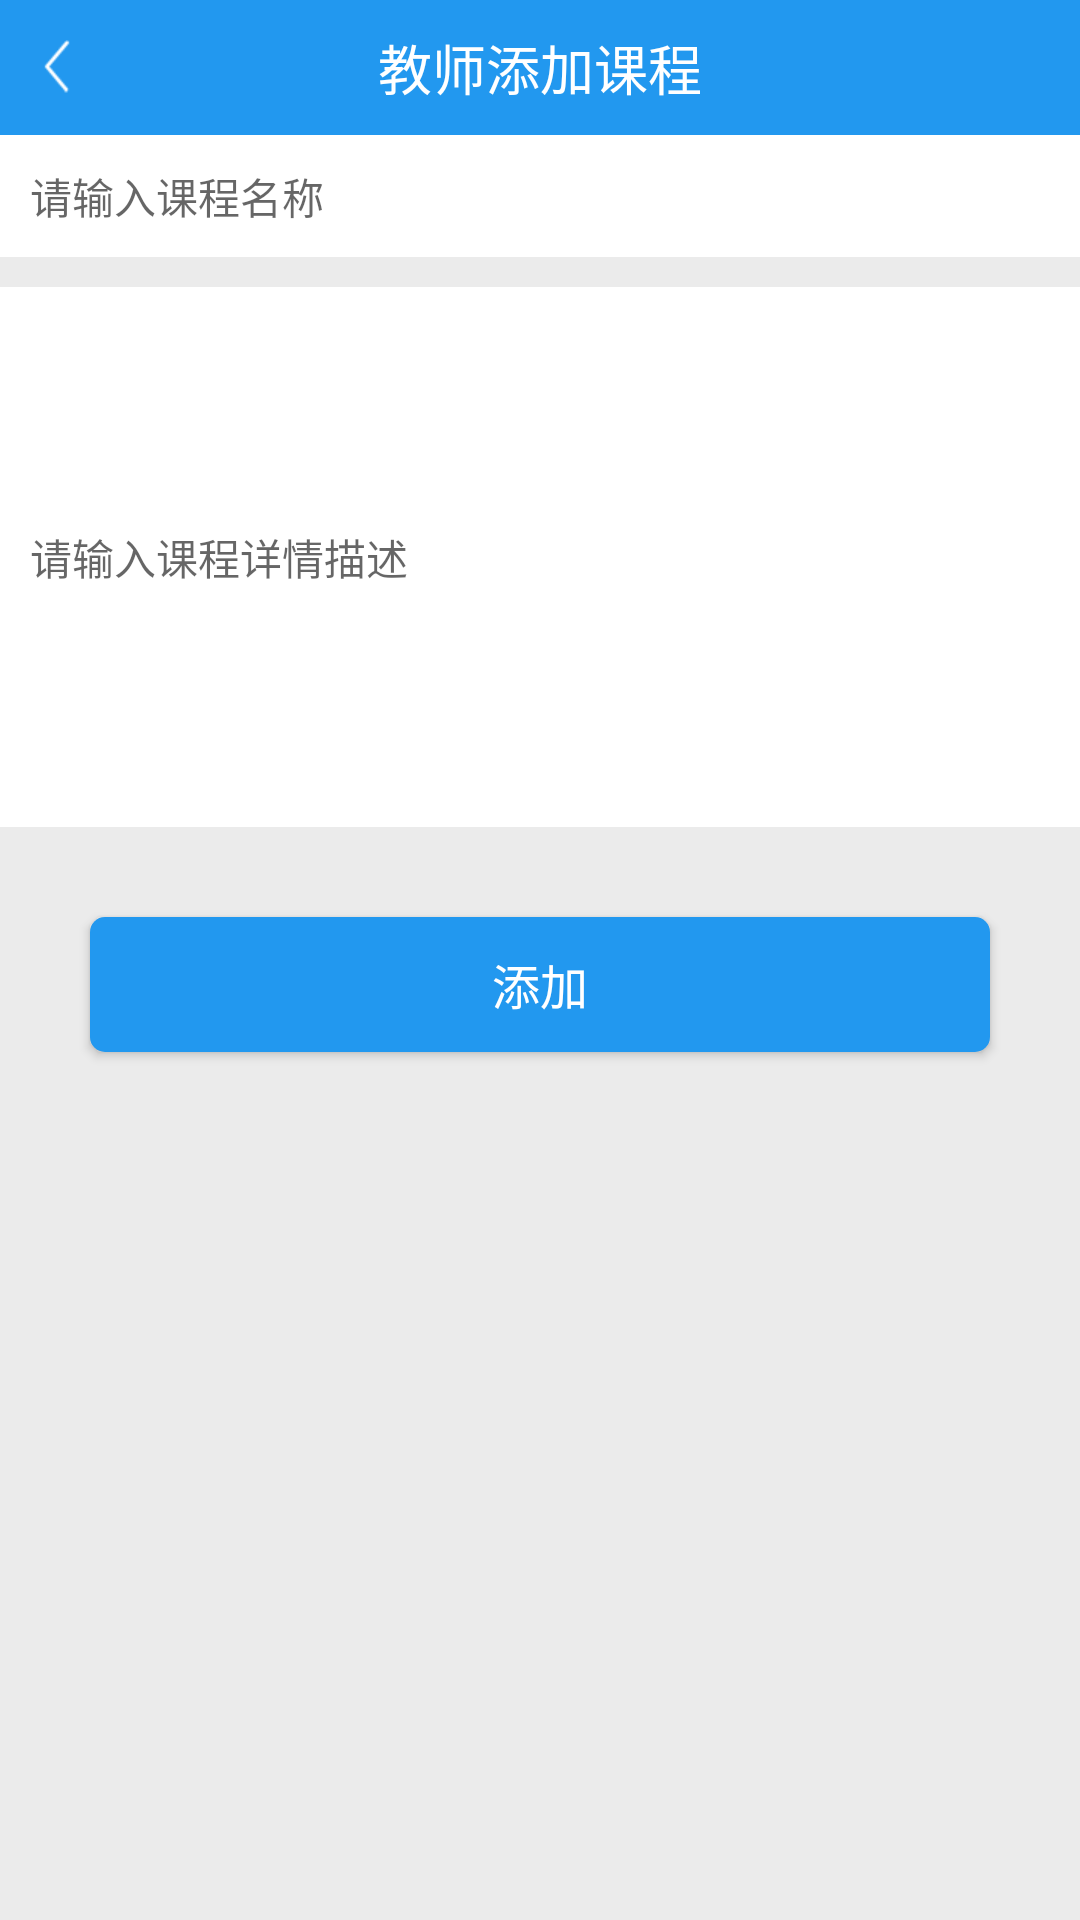

Locate icon controls on the screen. Image size 1080 x 1920, boxes as (x1, y1, x2, y2).
im back: (44, 40, 70, 93)
